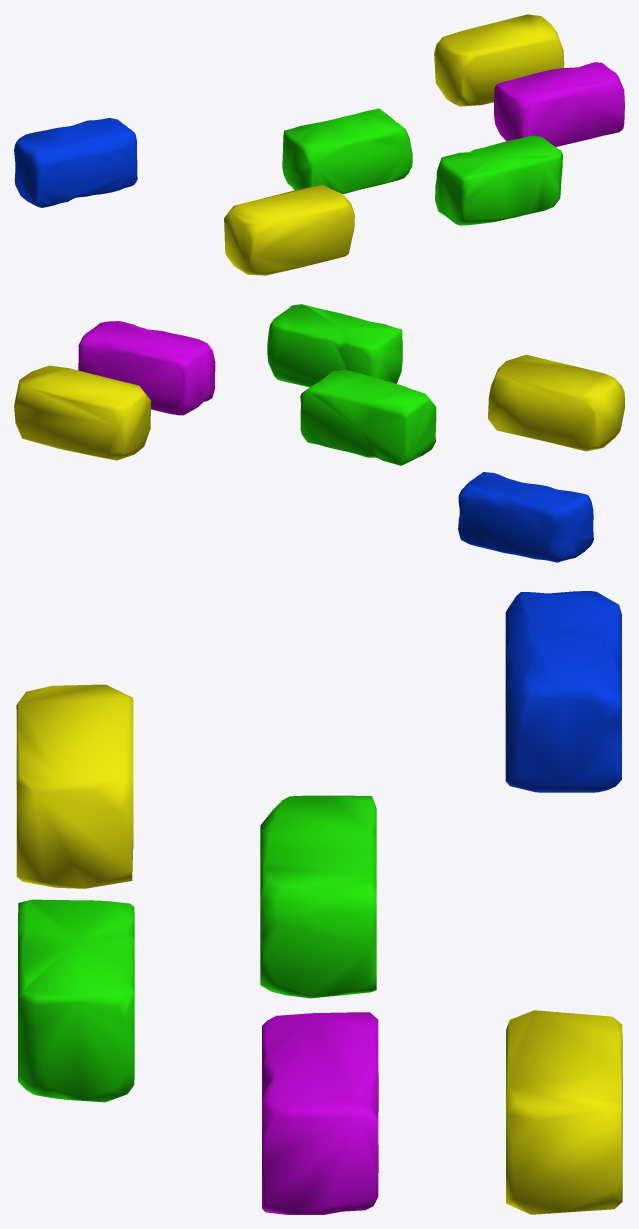
Rendered from sharp bricks pattern3.fbx.
3 views of the same model, one above another, from view 1: azimuth 30°, elevation 25°; view 2: azimuth 150°, elevation 25°; view 3: azimuth 270°, elevation 25° (orthographic). The views are drawn at different scales.
Visible parts, largest first — view 1: brick 2.001; view 2: brick 2.001; view 3: brick 2.001.
Part boxes in pixels (x1=…): brick 2.001: x1=14, y1=14, x2=624, y2=275; brick 2.001: x1=14, y1=304, x2=624, y2=562; brick 2.001: x1=16, y1=591, x2=622, y2=1214.
Bounding box in the file's own units: 200 × 21.32 × 99.09.
